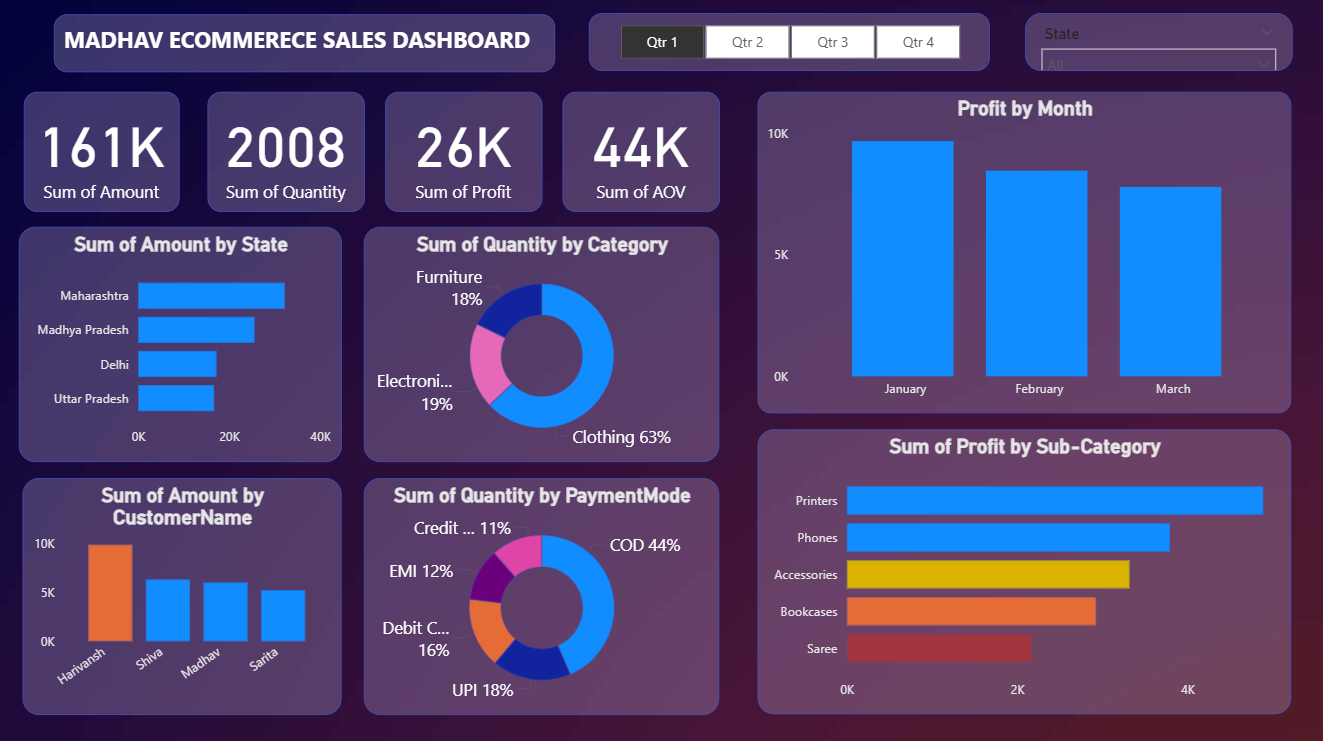

What the dashboard file says about the page in this screenshot:
{"tool":"powerbi","page":{"name":"Page 1","canvas":[1280,720],"ordinal":0},"visuals":[{"type":"textbox","box":[52.1,15.1,484.4,56.3],"z":0},{"type":"columnChart","title":"Profit by Month","fields":{"Category":["Orders.Order Date.Variation.Date Hierarchy.Month"],"Y":["Details.Profit"]},"box":[731.1,90.5,515.2,310.1],"z":1000},{"type":"barChart","fields":{"Y":["Details.Profit"],"Category":["Details.Sub-Category"]},"box":[731.1,416.2,515.2,275.1],"z":2000},{"type":"donutChart","fields":{"Category":["Details.Category"],"Y":["Details.Quantity"]},"box":[351.5,220.2,343.3,227.1],"z":3000},{"type":"donutChart","fields":{"Category":["Details.PaymentMode"],"Y":["Details.Quantity"]},"box":[351.5,463.7,343.3,228.4],"z":4000},{"type":"card","fields":{"Values":["Details.Amount"]},"box":[23.3,90.3,150.5,116.3],"z":5000},{"type":"card","fields":{"Values":["Details.Quantity"]},"box":[199.7,90.3,151.8,116.3],"z":6000},{"type":"card","fields":{"Values":["Details.Profit"]},"box":[372,90.3,151.8,116.3],"z":7000},{"type":"card","fields":{"Values":["Details.AOV"]},"box":[543,90.3,151.8,116.3],"z":8000},{"type":"barChart","fields":{"Category":["Orders.State"],"Y":["Details.Amount"]},"box":[17.8,220.2,311.9,227.1],"z":9000},{"type":"columnChart","fields":{"Category":["Orders.CustomerName"],"Y":["Details.Amount"]},"box":[21.9,463.7,307.8,228.4],"z":10000},{"type":"slicer","fields":{"Values":["Orders.Order Date.Variation.Date Hierarchy.Quarter"]},"box":[567.6,15,387.1,56.1],"z":11000},{"type":"slicer","fields":{"Values":["Orders.State"]},"box":[988.9,15,258.5,56.1],"z":12000}]}

Visuals, with their boxes in screenshot pixels (x1, y1, x2, y2), scaled from the page's 1280x720 canvas onto the 1323x741 screenshot:
textbox: detection(54, 16, 555, 73)
"Profit by Month" columnChart: detection(756, 93, 1288, 412)
barChart - Details.Profit x Details.Sub-Category: detection(756, 428, 1288, 711)
donutChart - Details.Category x Details.Quantity: detection(363, 227, 718, 460)
donutChart - Details.PaymentMode x Details.Quantity: detection(363, 477, 718, 712)
card - Details.Amount: detection(24, 93, 180, 213)
card - Details.Quantity: detection(206, 93, 363, 213)
card - Details.Profit: detection(384, 93, 541, 213)
card - Details.AOV: detection(561, 93, 718, 213)
barChart - Orders.State x Details.Amount: detection(18, 227, 341, 460)
columnChart - Orders.CustomerName x Details.Amount: detection(23, 477, 341, 712)
slicer - Orders.Order Date.Variation.Date Hierarchy.Quarter: detection(587, 15, 987, 73)
slicer - Orders.State: detection(1022, 15, 1289, 73)
